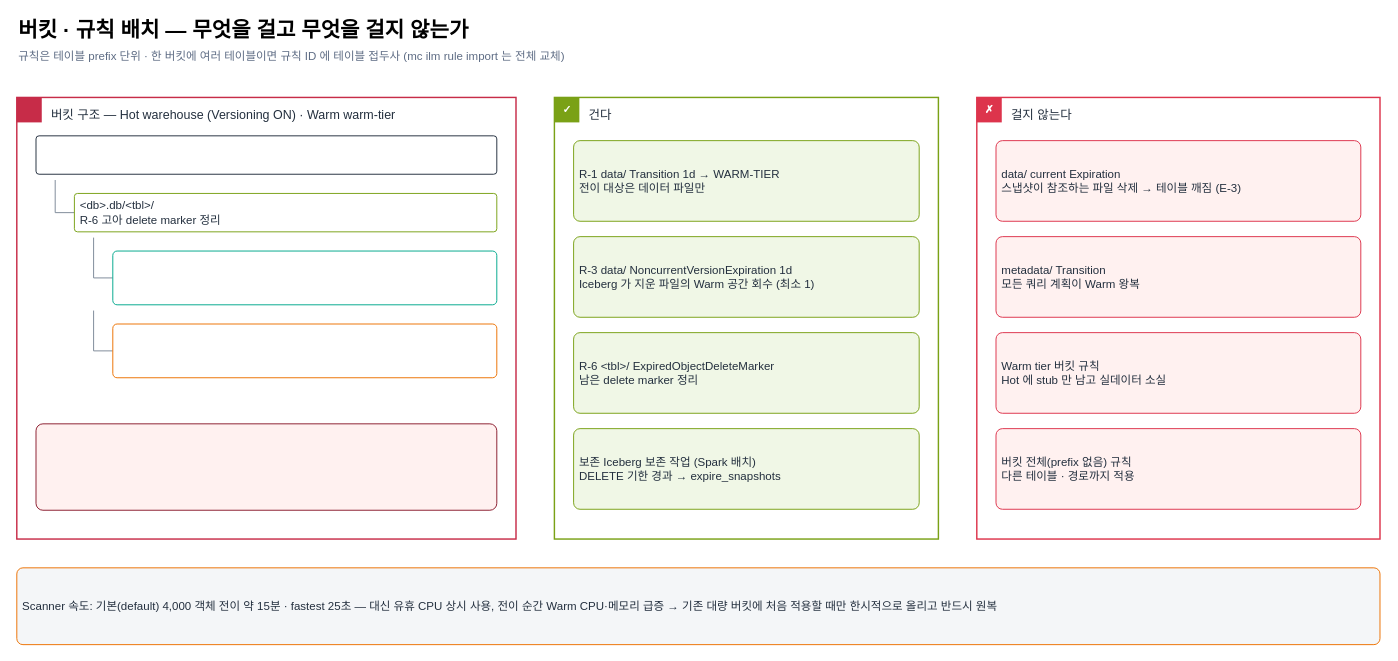
Some shapes in this 1398 by 661 pixel diagram are drawn without their labels. The centre of each missing label's shape, as x and y in pixels:
"data/<partition>/*.parquet R-1 Transition 1d → WARM-TIER R-3 Noncurrent 만료 1d" goes at (x=304, y=350).
"metadata/ 규칙 없음 — 항상 Hot (*.metadata.json · snap-*.avro · manifest)" goes at (x=304, y=277).
"S3" goes at (x=28, y=109).
"warehouse/" goes at (x=266, y=154).
"Warm · warm-tier 버킷 규칙 없음 · 접근은 tier-svc 만 (Hot 의 tier 가 객체를 opaque 이름으로 보관)" goes at (x=266, y=466).
